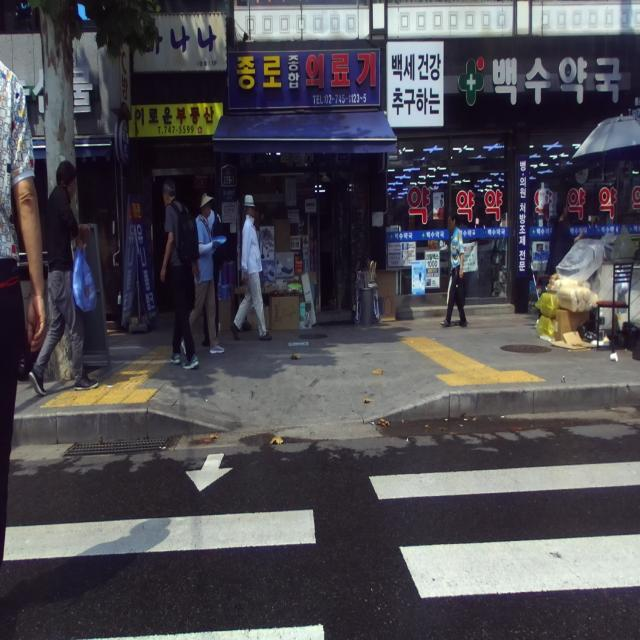횡단보도: (3, 452, 640, 640)
